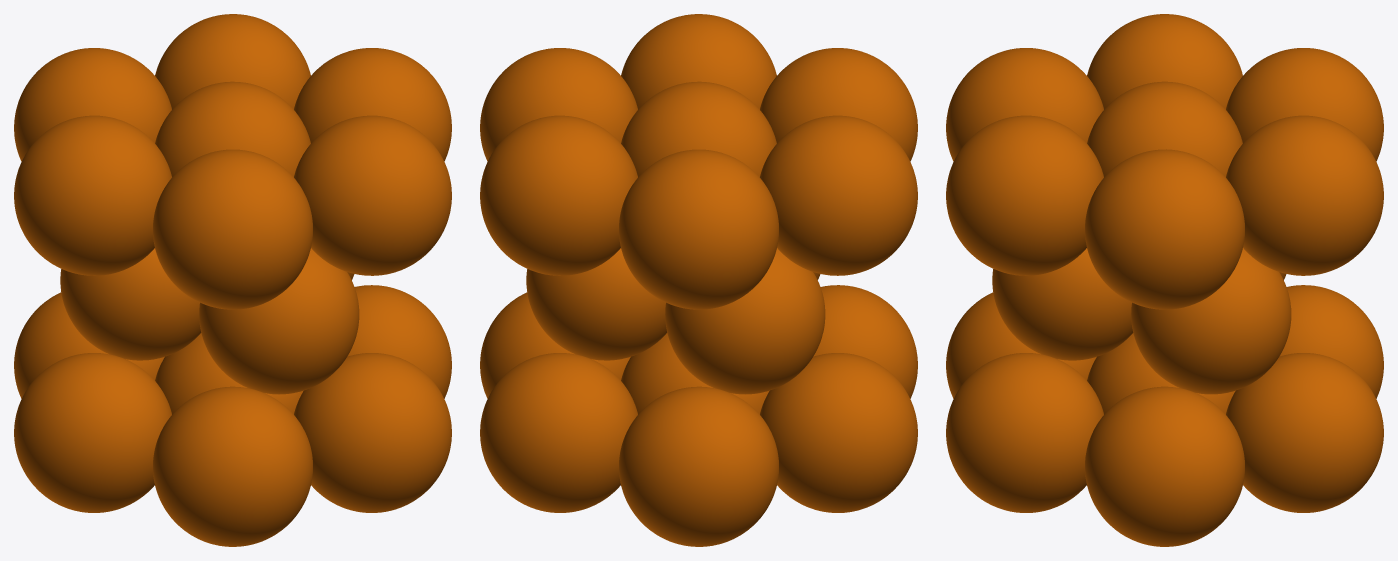
File: HCP_Atoms.glb
3 views of the same model, side by side, from view 1: azimuth 30°, elevation 25°; view 2: azimuth 150°, elevation 25°; view 3: azimuth 270°, elevation 25° (orthographic).
Parts seen in each view (by area): view 1: HCP_Atoms; view 2: HCP_Atoms; view 3: HCP_Atoms.
Boxes of the visible parts, bbox=[...] form: HCP_Atoms: bbox=[14, 14, 451, 546]; HCP_Atoms: bbox=[480, 14, 917, 546]; HCP_Atoms: bbox=[946, 14, 1383, 546].
Bounding box in the file's own units: 1.2 × 1.05 × 1.09.
